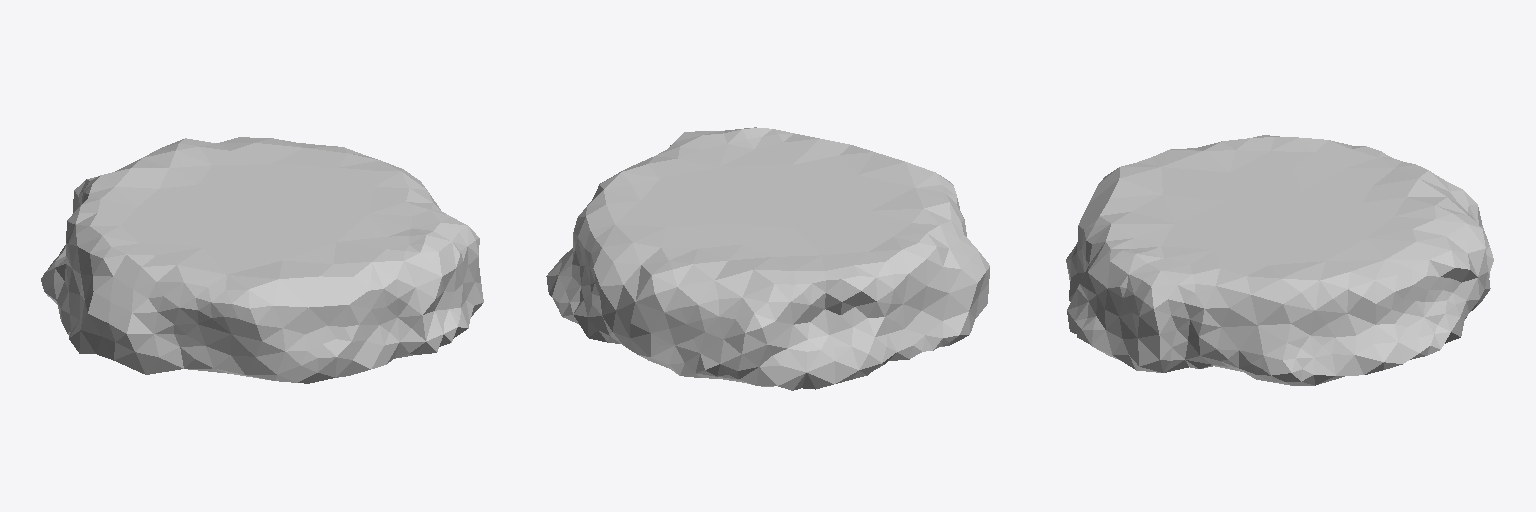
File: rockD.obj
The picture shows the model from 3 angles: view 1: azimuth 30°, elevation 25°; view 2: azimuth 150°, elevation 25°; view 3: azimuth 270°, elevation 25°; orthographic projection.
Parts seen in each view (by area): view 1: RockSet05D; view 2: RockSet05D; view 3: RockSet05D.
Part boxes in pixels (x1,y1,x2,y2): RockSet05D: (41,137,483,383); RockSet05D: (546,127,989,390); RockSet05D: (1066,135,1493,385).
Bounding box in the file's own units: 4.2 × 1.07 × 4.11.